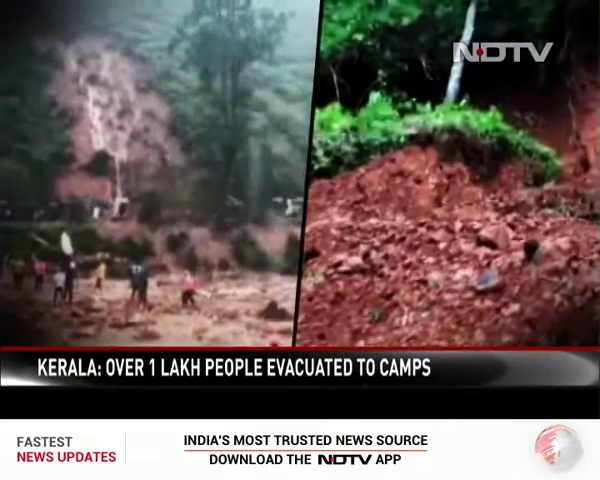person: (182, 270, 198, 310), (66, 264, 81, 305), (129, 262, 144, 298), (12, 253, 27, 289), (54, 267, 64, 312), (36, 259, 45, 291)
vehicle: (278, 193, 303, 217)
